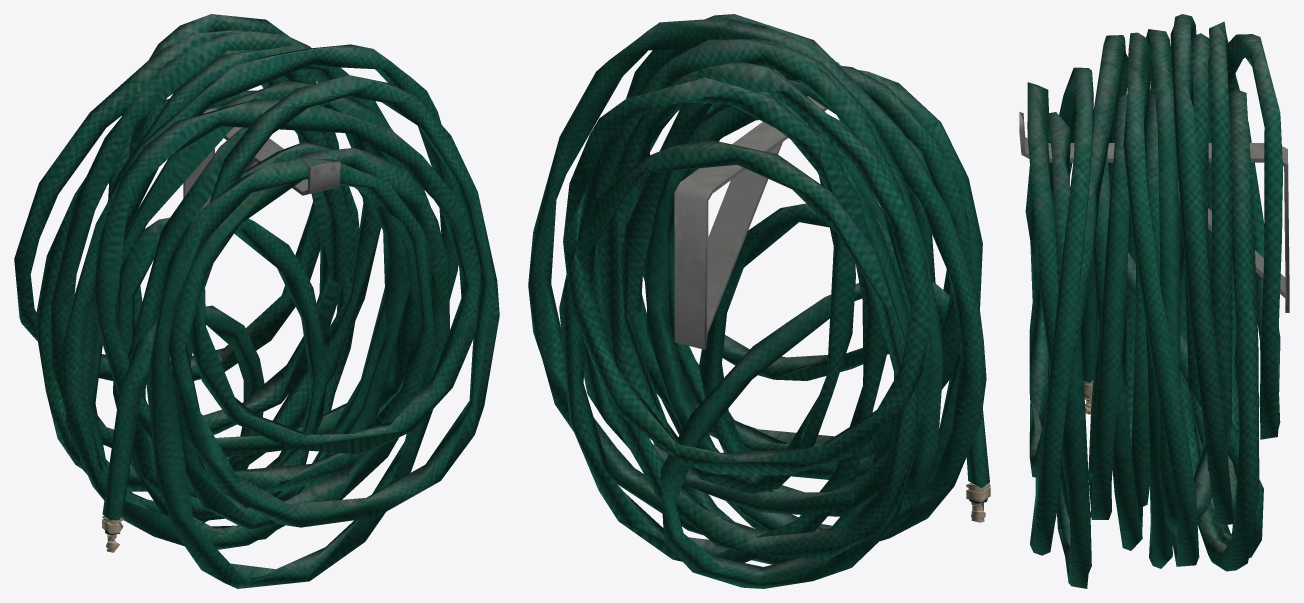
File: g_hose.glb
3 views of the same model, side by side, from view 1: azimuth 30°, elevation 25°; view 2: azimuth 150°, elevation 25°; view 3: azimuth 270°, elevation 25° (orthographic). The views are drawn at different scales.
Visible parts, largest first — view 1: garden_hose_wall_bracket; view 2: garden_hose_wall_bracket; view 3: garden_hose_wall_bracket.
Part boxes in pixels (x1=…): garden_hose_wall_bracket: x1=14, y1=14, x2=499, y2=588; garden_hose_wall_bracket: x1=528, y1=14, x2=990, y2=588; garden_hose_wall_bracket: x1=1019, y1=14, x2=1289, y2=588.
Size of the model in its own units: 0.4645 by 0.5511 by 0.2503.
1 material, 1 textured.
